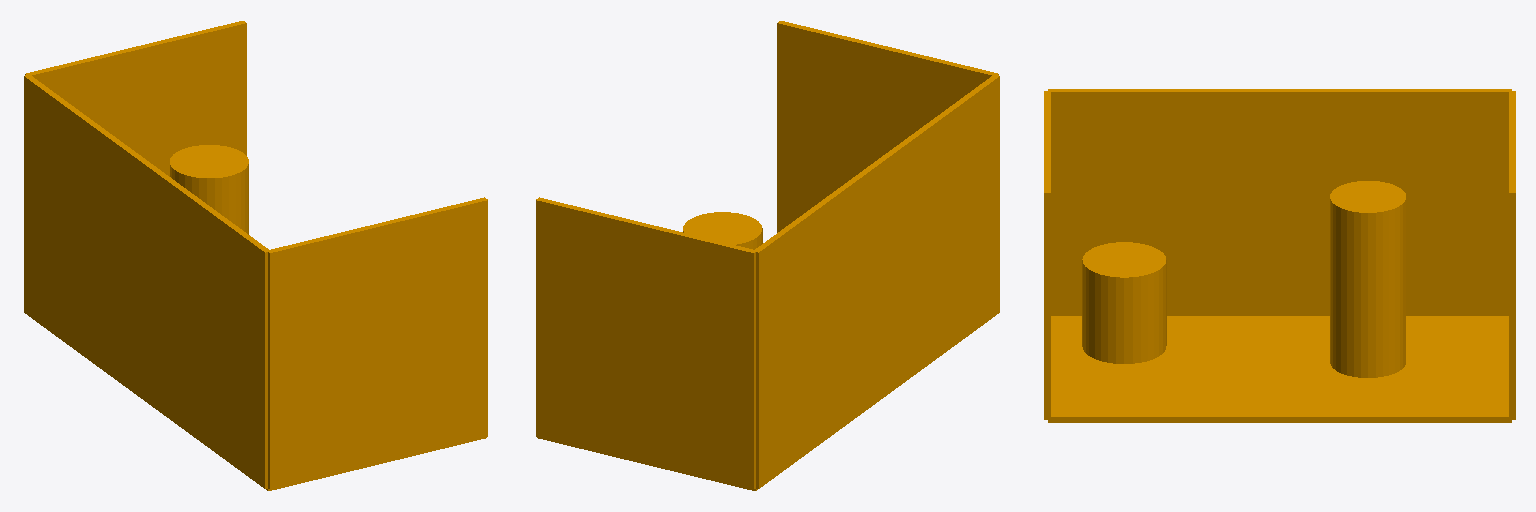
robot.urdf — syn_can_cabinet_392:
<?xml version="1.0" ?>
<robot name="syn_can_cabinet_392">
    <link concave="yes" name="base_link">
        <inertial>
            <origin rpy="0 0 0" xyz="0 0 0"/>
            <mass value="0.0"/>
            <inertia ixx="1e-08" ixy="0" ixz="0" iyy="1e-08" iyz="0" izz="1e-08"/>
        </inertial>
        <visual>
            <origin xyz="0 0 0" rpy="0 0 0" />
            <geometry>
                <mesh filename="syn_can_cabinet_392.obj" scale="1.000000 1.000000 1.000000"/>
            </geometry>         
        </visual>

        <collision concave="yes">
            <origin xyz="0 0 0" rpy="0 0 0"/>
            <geometry>
                <mesh filename="syn_can_cabinet_392.obj" scale="1.000000 1.000000 1.000000"/>
            </geometry>
        </collision>
    </link>
</robot>
    

--- Render facts (derived) ---
3 views of the same robot in one strip: view 1: azimuth 30°, elevation 25°; view 2: azimuth 150°, elevation 25°; view 3: azimuth 270°, elevation 25° (orthographic).
Robot: syn_can_cabinet_392 — 1 links, 0 joints (none); root link base_link; default pose: every joint at zero.
Visible links, largest first — view 1: base_link; view 2: base_link; view 3: base_link.
Boxes of the visible links, x1=… form: base_link: x1=24, y1=21, x2=487, y2=490; base_link: x1=536, y1=21, x2=999, y2=490; base_link: x1=1044, y1=89, x2=1515, y2=422.
Bounding box of the posed robot: 0.1838 × 0.3527 × 0.19 m (x, y, z).
Meshes: 1 distinct files referenced, 1 mesh visuals loaded (1 OBJ).
